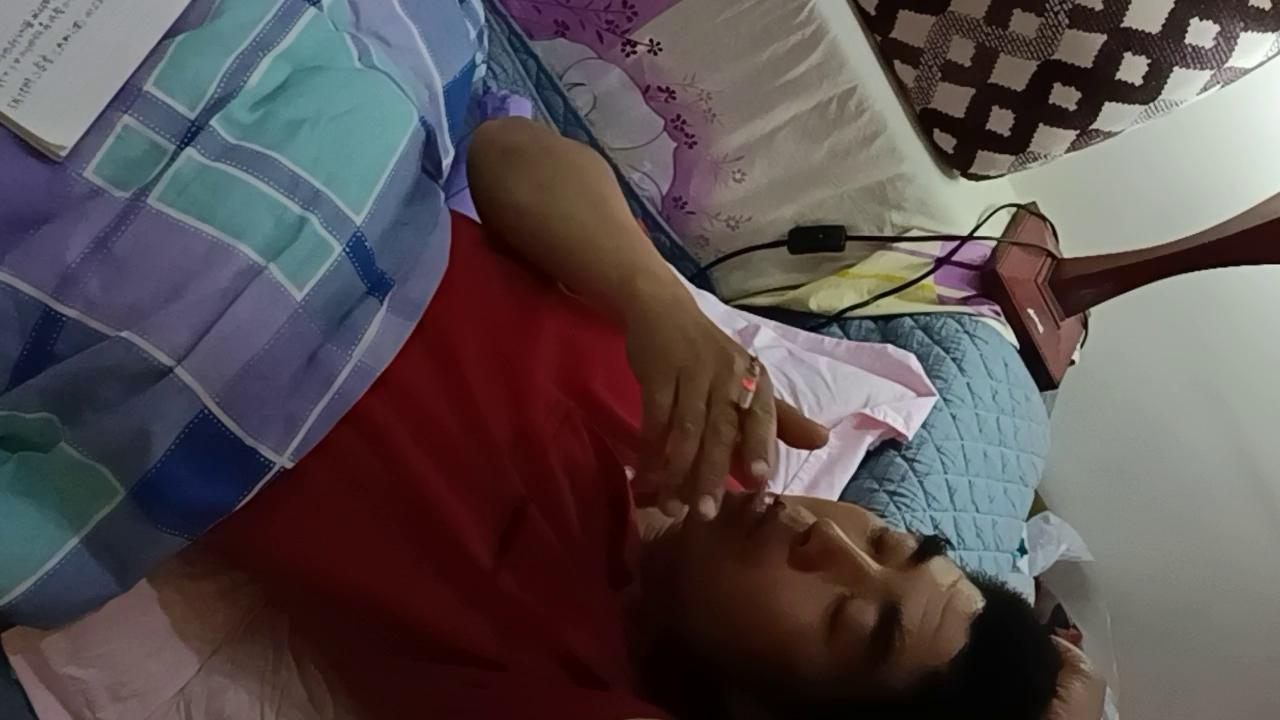smoke: (731, 356, 764, 446)
